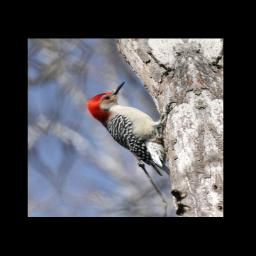Woodpecker: (77, 73, 199, 189)
